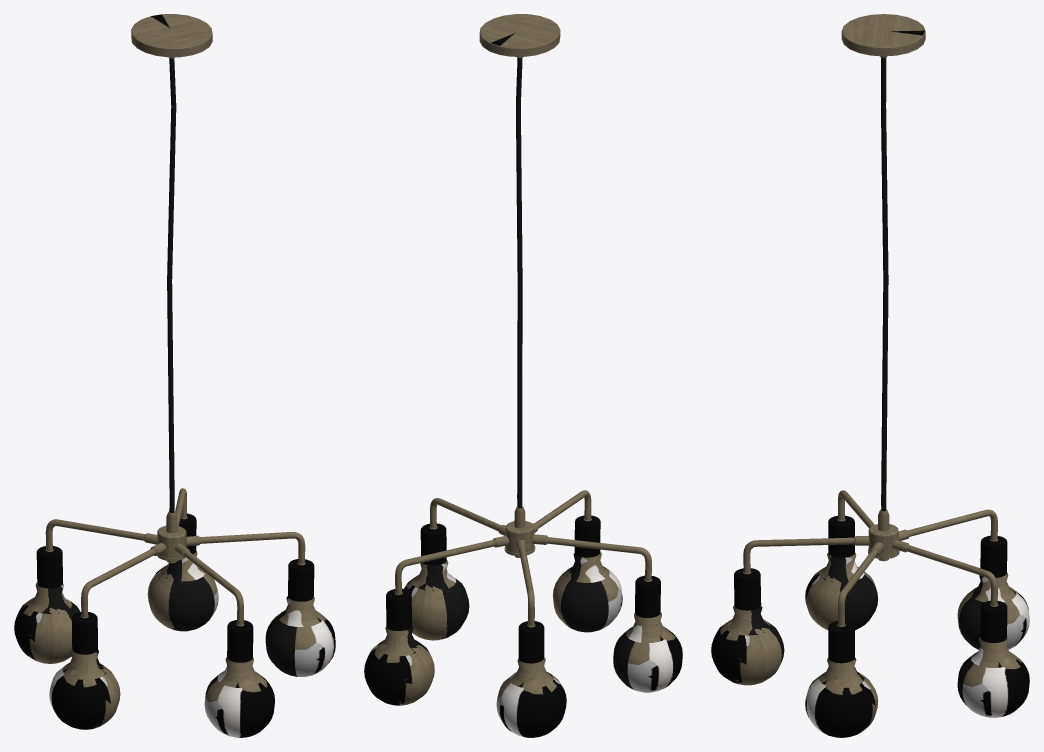
File: abo-B07374M9ZT.glb
3 renders of one model, left to right at view 1: azimuth 30°, elevation 25°; view 2: azimuth 150°, elevation 25°; view 3: azimuth 270°, elevation 25°, orthographic.
Bounding box in the file's own units: 0.438 × 0.988 × 0.438.
1 material, 1 textured.
